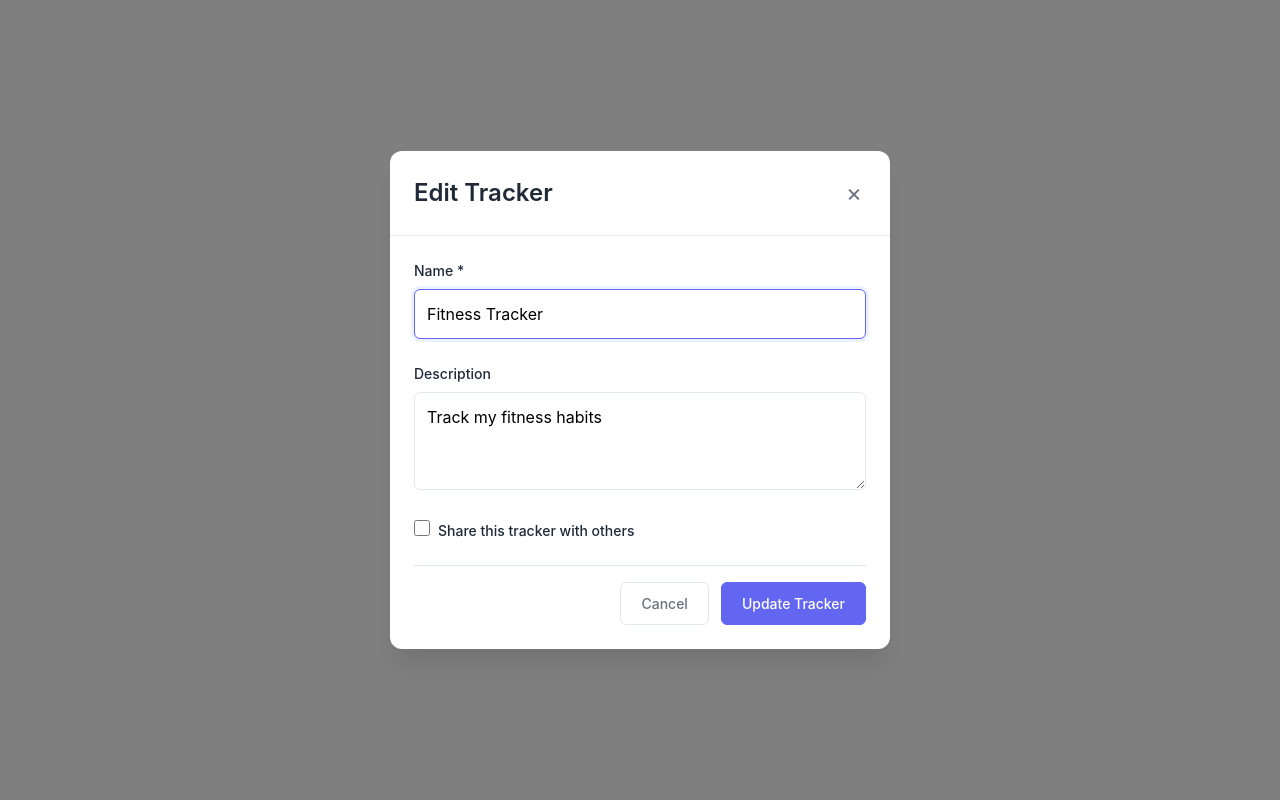
Test: EditTrackerModal Component › clears validation errors when input changes
Trigger validation error
Clear the field showing "Fitness Tracker" at (640, 314), box [414,289,866,339]
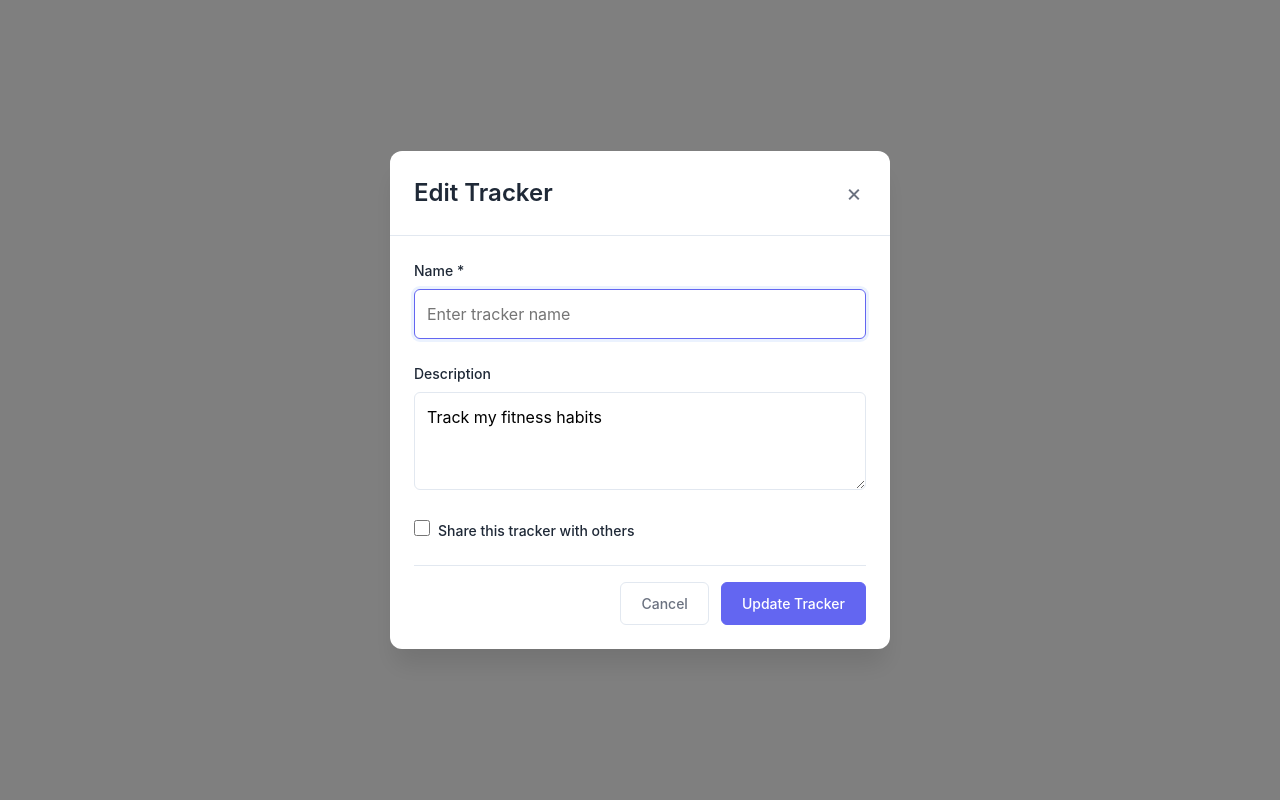
Click the button "Update Tracker" at (793, 604), box [721,582,866,625]
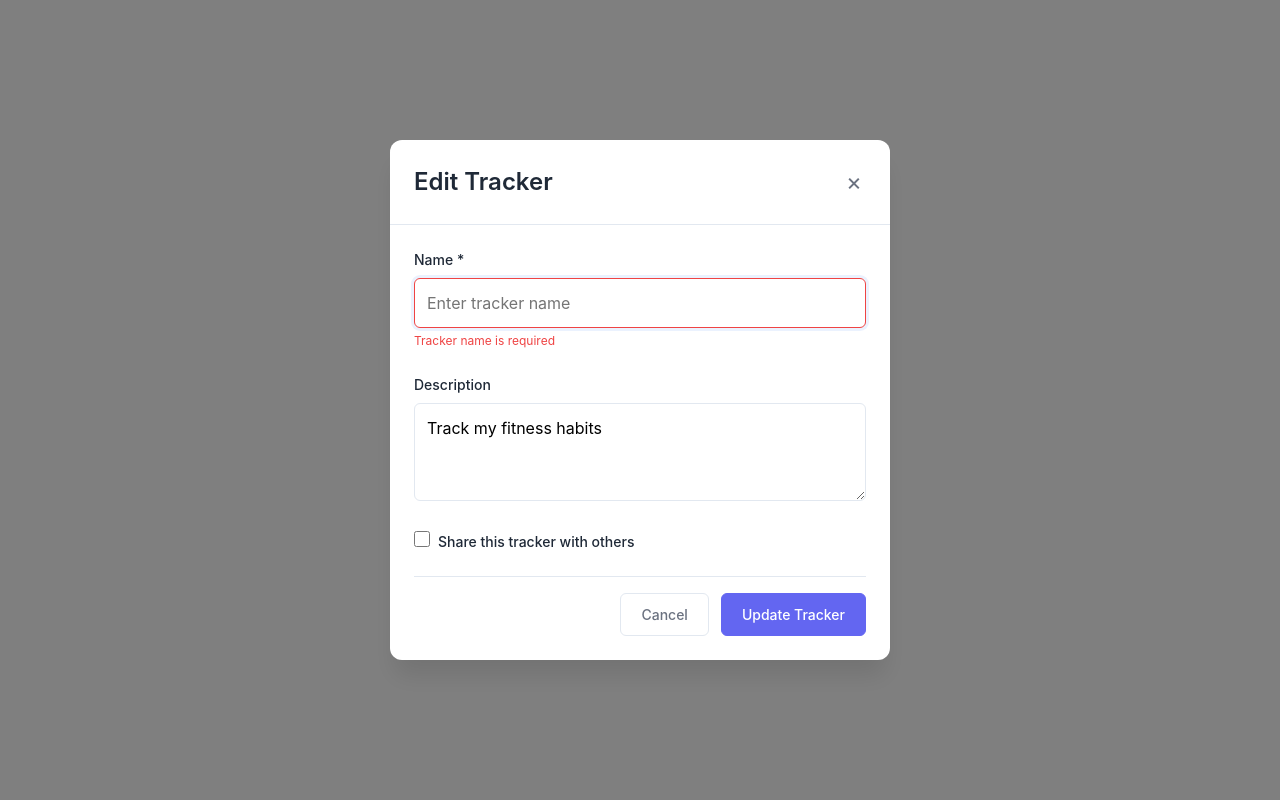
Result: the text "Tracker name is required" is shown at [414,333,555,348]
Fix the error
Type "Valid Name" into the field showing "Fitness Tracker" at (640, 303), box [414,278,866,328]
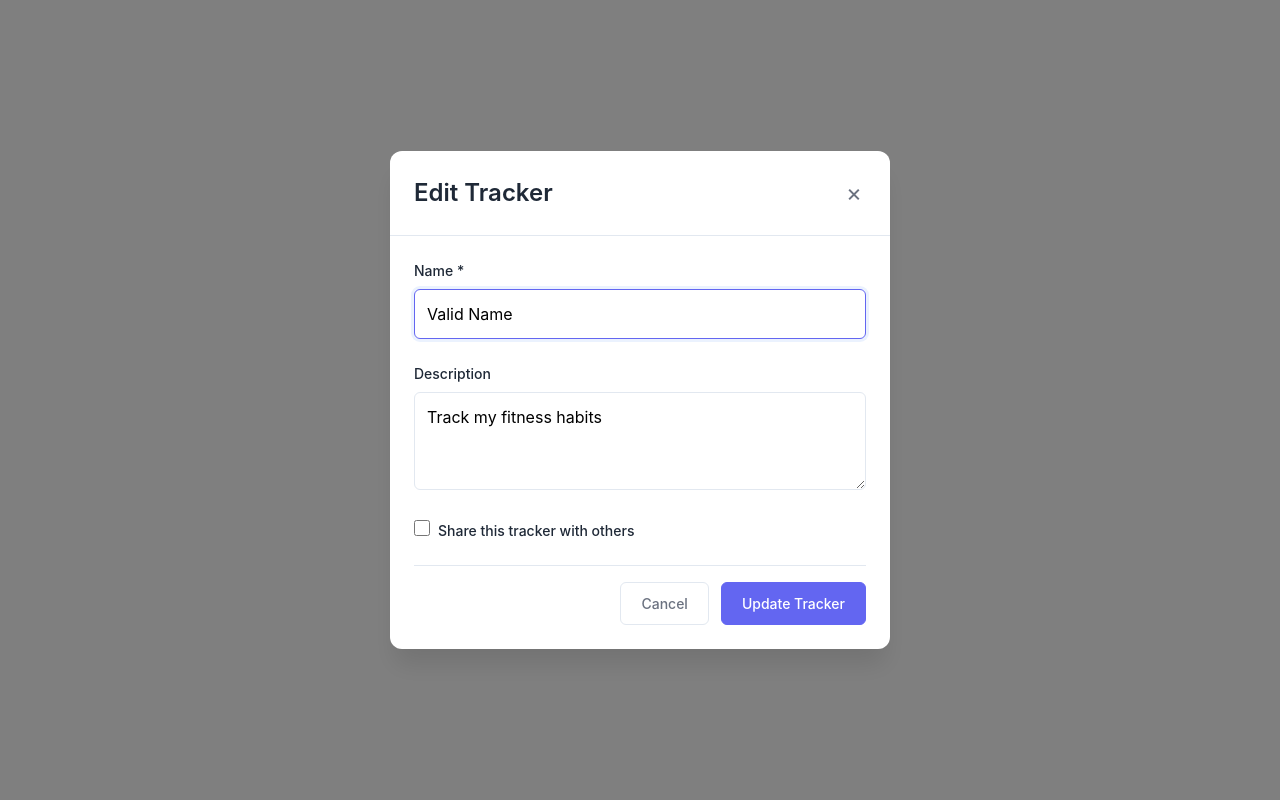
Result: the text "Tracker name is required" is gone
